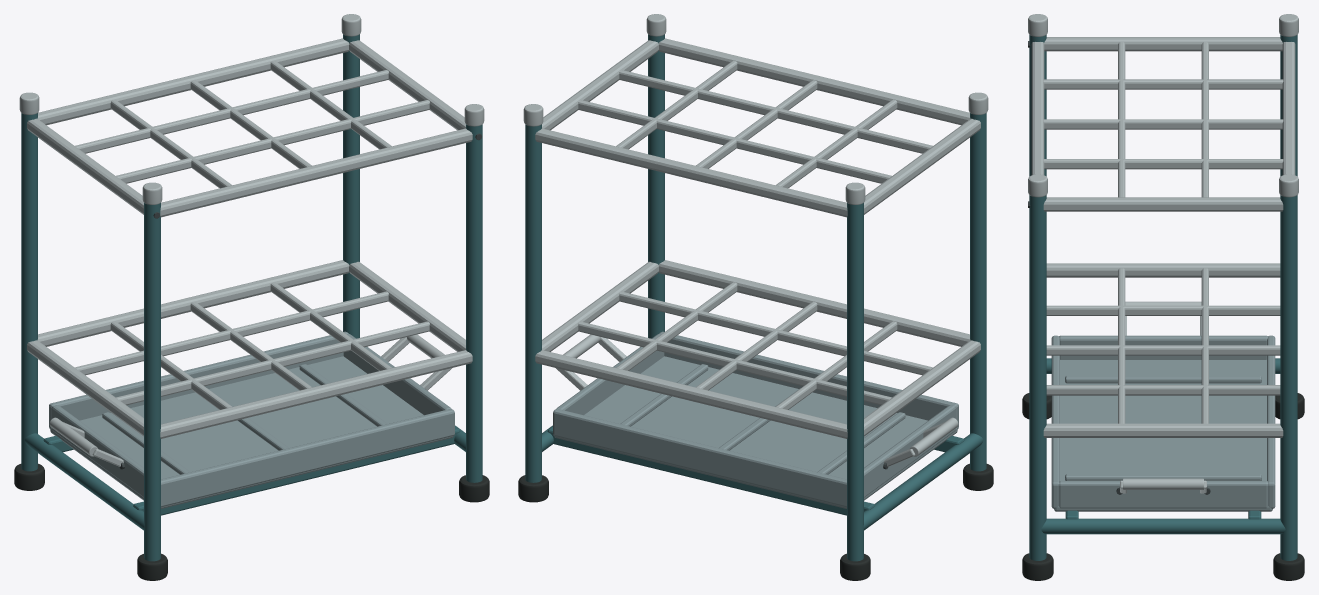
The model's file is city-umbrella-drip-rack.glb.
3 renders of one model, left to right at view 1: azimuth 30°, elevation 25°; view 2: azimuth 150°, elevation 25°; view 3: azimuth 270°, elevation 25°, orthographic. The views are drawn at different scales.
Parts seen in each view (by area): view 1: Assembly | Satin stainless fittings, Assembly | Slate grey drip pan, Assembly | Deep petrol powder coat, Assembly | Soft charcoal contact pads; view 2: Assembly | Satin stainless fittings, Assembly | Slate grey drip pan, Assembly | Deep petrol powder coat, Assembly | Soft charcoal contact pads; view 3: Assembly | Satin stainless fittings, Assembly | Slate grey drip pan, Assembly | Deep petrol powder coat, Assembly | Soft charcoal contact pads.
Boxes of the visible parts, bbox=[...] form: Assembly | Satin stainless fittings: bbox=[19, 14, 484, 466]; Assembly | Slate grey drip pan: bbox=[49, 331, 454, 508]; Assembly | Deep petrol powder coat: bbox=[21, 34, 482, 561]; Assembly | Soft charcoal contact pads: bbox=[14, 463, 489, 580]; Assembly | Satin stainless fittings: bbox=[523, 14, 988, 466]; Assembly | Slate grey drip pan: bbox=[553, 331, 958, 508]; Assembly | Deep petrol powder coat: bbox=[525, 34, 986, 561]; Assembly | Soft charcoal contact pads: bbox=[518, 463, 993, 580]; Assembly | Satin stainless fittings: bbox=[1028, 14, 1298, 493]; Assembly | Slate grey drip pan: bbox=[1051, 335, 1275, 511]; Assembly | Deep petrol powder coat: bbox=[1029, 35, 1297, 560]; Assembly | Soft charcoal contact pads: bbox=[1022, 393, 1304, 580].
Bounding box in the file's own units: 0.604 × 0.6155 × 0.396.
